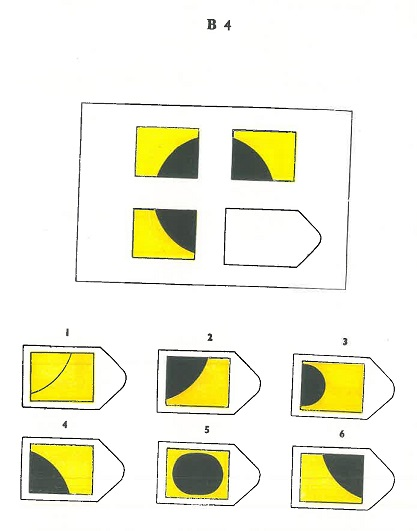Array 1: (16, 325, 131, 414)
Array 2: (151, 324, 264, 419)
Array 3: (284, 333, 399, 423)
Array 4: (17, 418, 130, 506)
Array 5: (152, 423, 265, 510)
Array 6: (284, 425, 399, 514)
Matrix 1: (129, 120, 204, 184)
Matrix 2: (227, 121, 301, 188)
Matrix 3: (128, 201, 202, 265)
Matrix Unknown: (220, 203, 324, 270)
